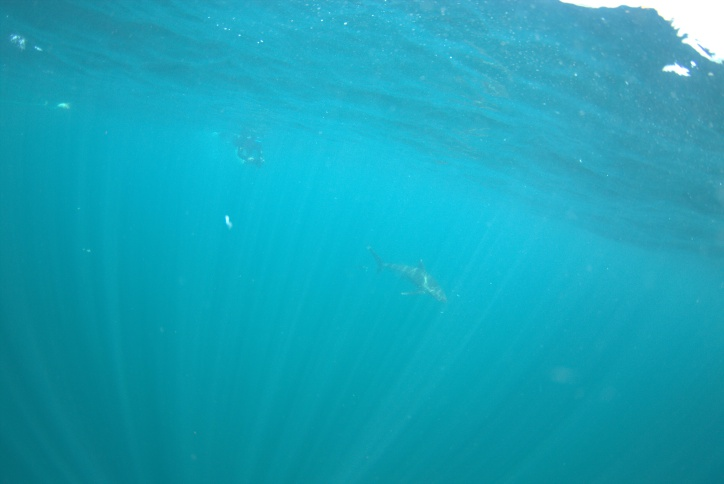Sedoso: (357, 233, 458, 304)
